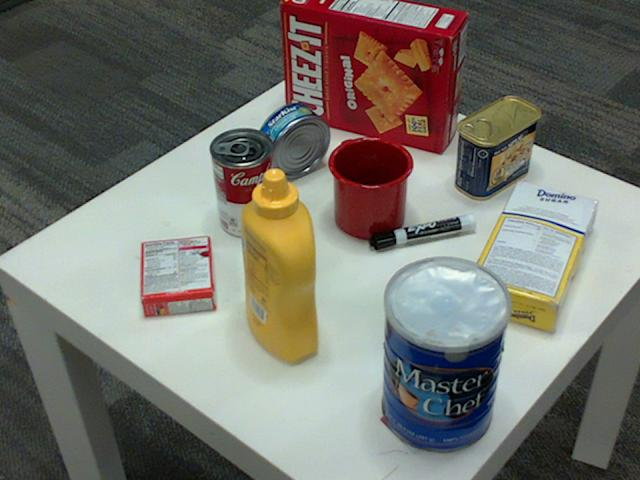cracker_box: (282, 0, 467, 152)
gelatin_box: (137, 234, 212, 316)
large_marker: (369, 217, 477, 249)
master_chef_can: (382, 258, 513, 455)
mug: (326, 135, 412, 238)
mustard_bottle: (239, 169, 316, 362)
potted_meat_can: (454, 98, 539, 200)
sugar_box: (463, 180, 596, 334)
tomato_soup_can: (209, 128, 276, 238)
tuna_fish_can: (254, 102, 329, 178)
